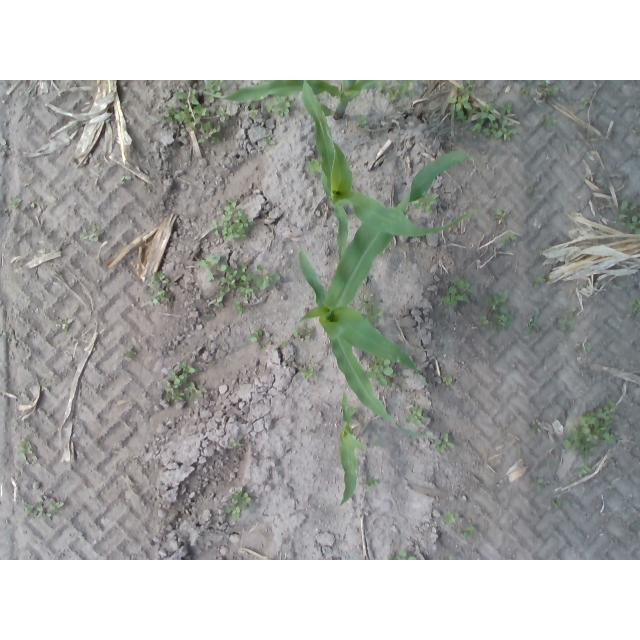Maize: (297, 151, 467, 438), (300, 82, 472, 260), (200, 80, 378, 120), (340, 390, 364, 506)
Weeds: (564, 400, 617, 452), (471, 104, 518, 141), (219, 262, 253, 299), (223, 202, 254, 239), (177, 89, 199, 128), (254, 263, 280, 289), (619, 200, 640, 232), (449, 93, 472, 120), (382, 81, 413, 100), (369, 364, 395, 386), (199, 122, 222, 144), (497, 305, 515, 330), (160, 108, 187, 124), (417, 193, 439, 212), (273, 95, 292, 117), (445, 286, 464, 307), (407, 405, 424, 428), (434, 433, 454, 452), (559, 310, 577, 331), (205, 80, 222, 102), (489, 291, 507, 310), (152, 272, 171, 289), (366, 305, 383, 323), (295, 324, 314, 340), (185, 382, 203, 398), (232, 491, 251, 505), (200, 255, 220, 268), (20, 440, 33, 460), (526, 315, 540, 333), (216, 104, 230, 122), (194, 103, 210, 118), (171, 370, 186, 386), (454, 277, 471, 291), (168, 388, 185, 402), (226, 507, 241, 522), (307, 158, 321, 174), (302, 366, 318, 380), (152, 290, 169, 303), (541, 83, 559, 95), (396, 550, 417, 560), (81, 227, 97, 240), (182, 362, 199, 374), (55, 319, 73, 330), (37, 503, 51, 517), (123, 349, 137, 362), (363, 477, 381, 487), (211, 220, 222, 236), (531, 479, 544, 492), (210, 296, 224, 308), (248, 330, 262, 342), (442, 513, 458, 523), (231, 438, 245, 449), (250, 105, 260, 120), (580, 465, 592, 477), (546, 115, 557, 128), (501, 233, 515, 243), (533, 278, 547, 288), (532, 423, 541, 438), (465, 527, 477, 538), (10, 197, 22, 208), (476, 315, 489, 325), (522, 84, 532, 97), (51, 501, 64, 511), (236, 301, 245, 315), (631, 299, 640, 313), (264, 138, 277, 146), (583, 97, 593, 106), (444, 376, 453, 385), (552, 500, 561, 508), (26, 504, 35, 512), (267, 103, 274, 113), (121, 177, 131, 184), (281, 340, 288, 349), (497, 211, 506, 218), (1, 138, 8, 146), (208, 274, 215, 282)
